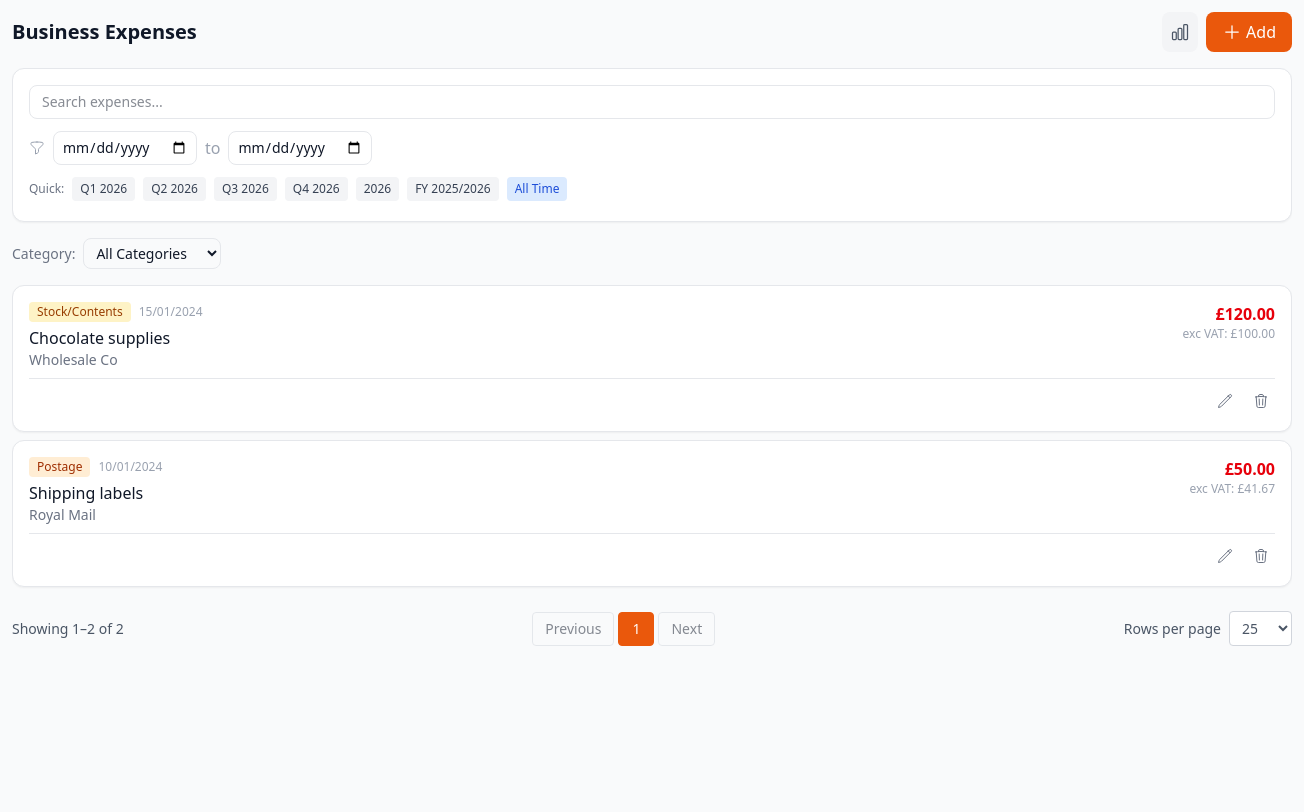
Test: Expenses › pagination request lifecycle › does not let a stale filter response replace the latest response
Expected: the text "Chocolate supplies" is shown, x1=29 y1=327 x2=170 y2=349
Type "2026-08-01" into the date field with placeholder "Start date". click: (125, 148)
box: x1=53 y1=131 x2=197 y2=165
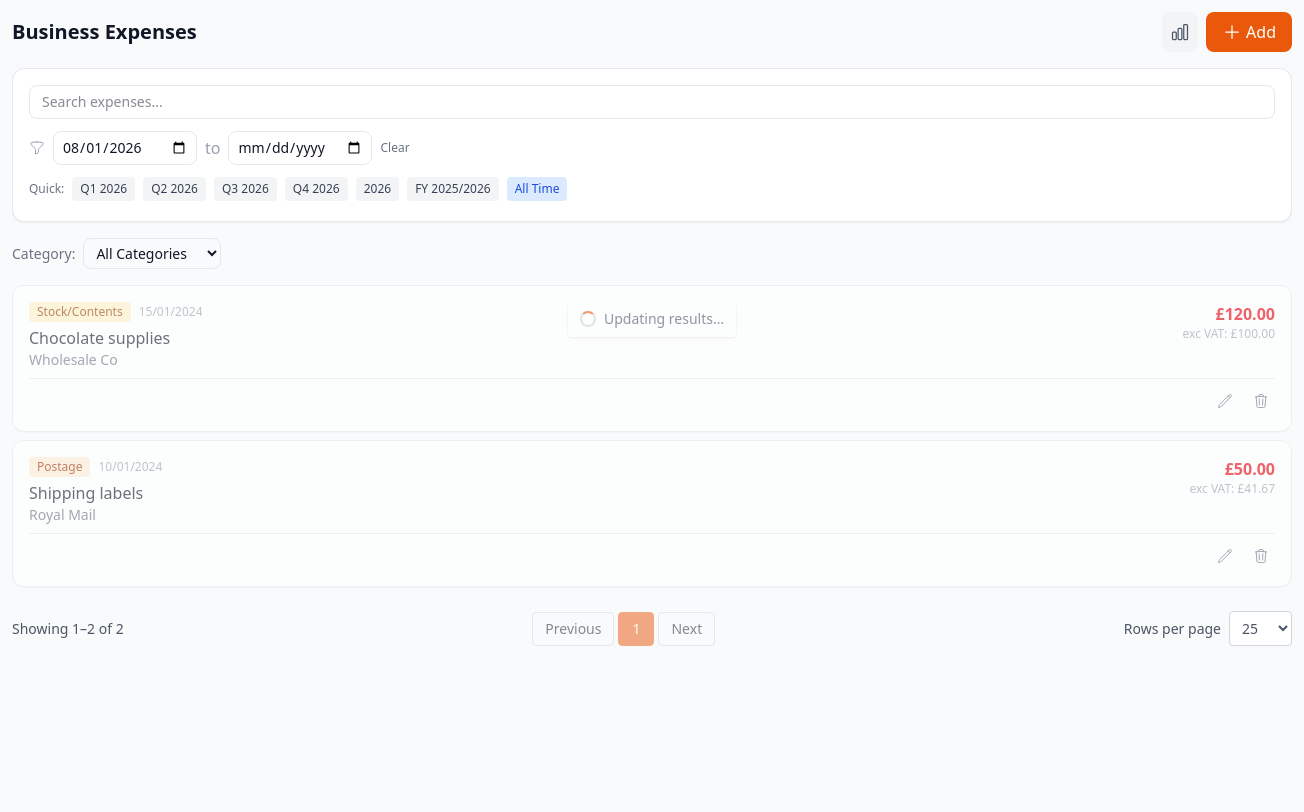
Type "2026-08-02" into the 1st date field. click: (125, 148)
box: x1=53 y1=131 x2=197 y2=165
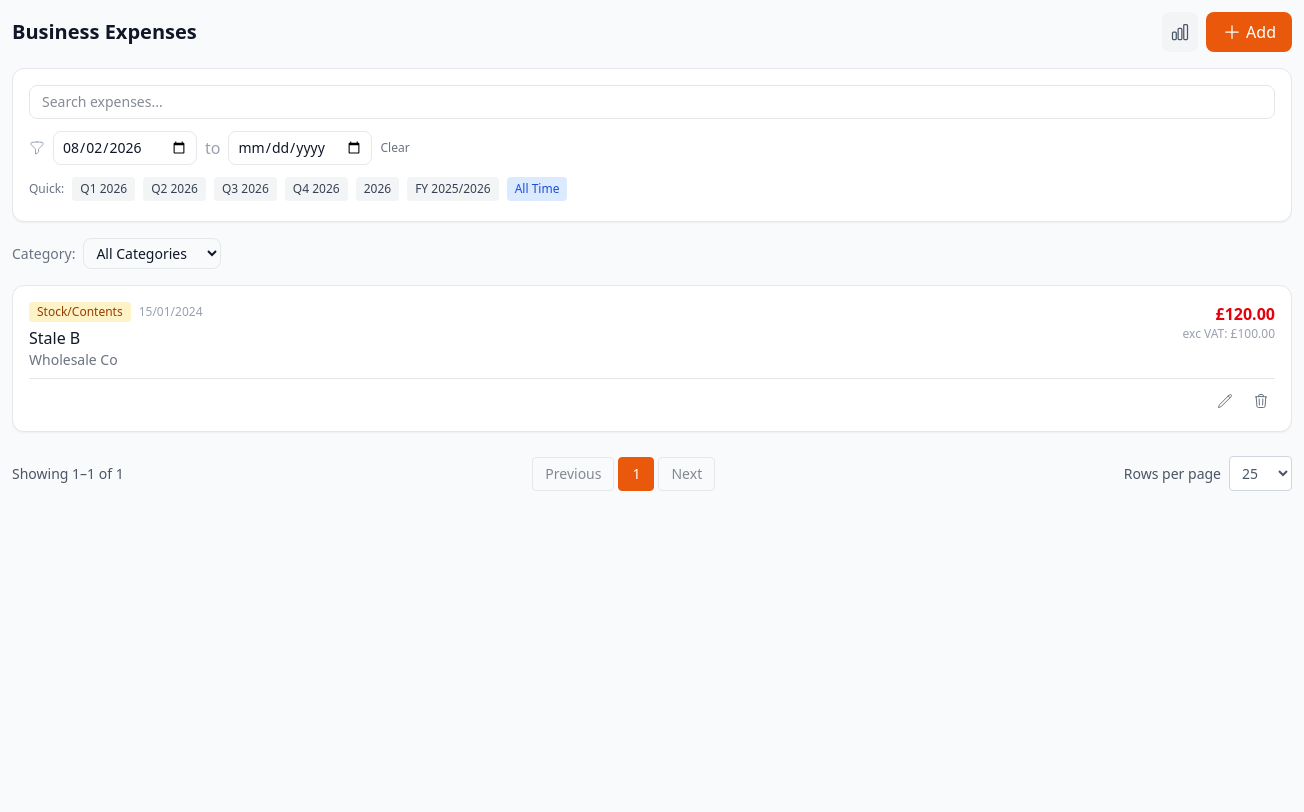
Expected: the text "Stale B" is shown, x1=29 y1=327 x2=80 y2=349
